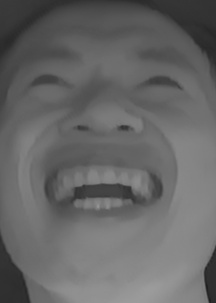eye: (136, 65, 194, 103), (24, 69, 82, 93)
mouth: (36, 142, 160, 230)
